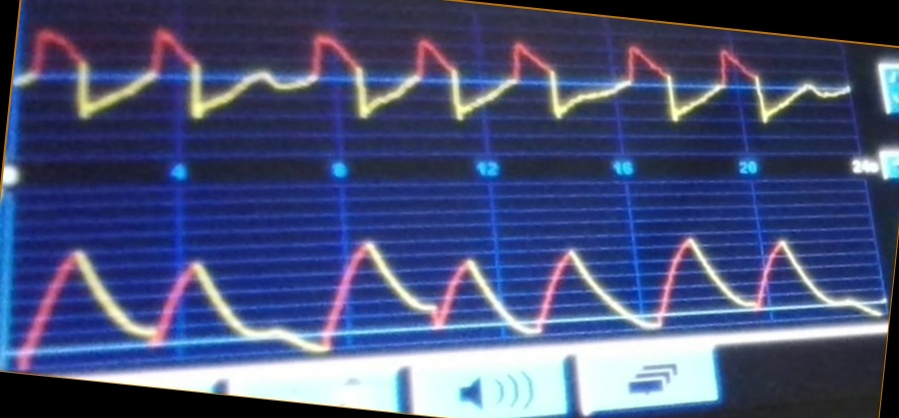Ineffective_effort Flow: (21, 24, 851, 134)
Ineffective_effort Volume: (16, 234, 879, 355)
